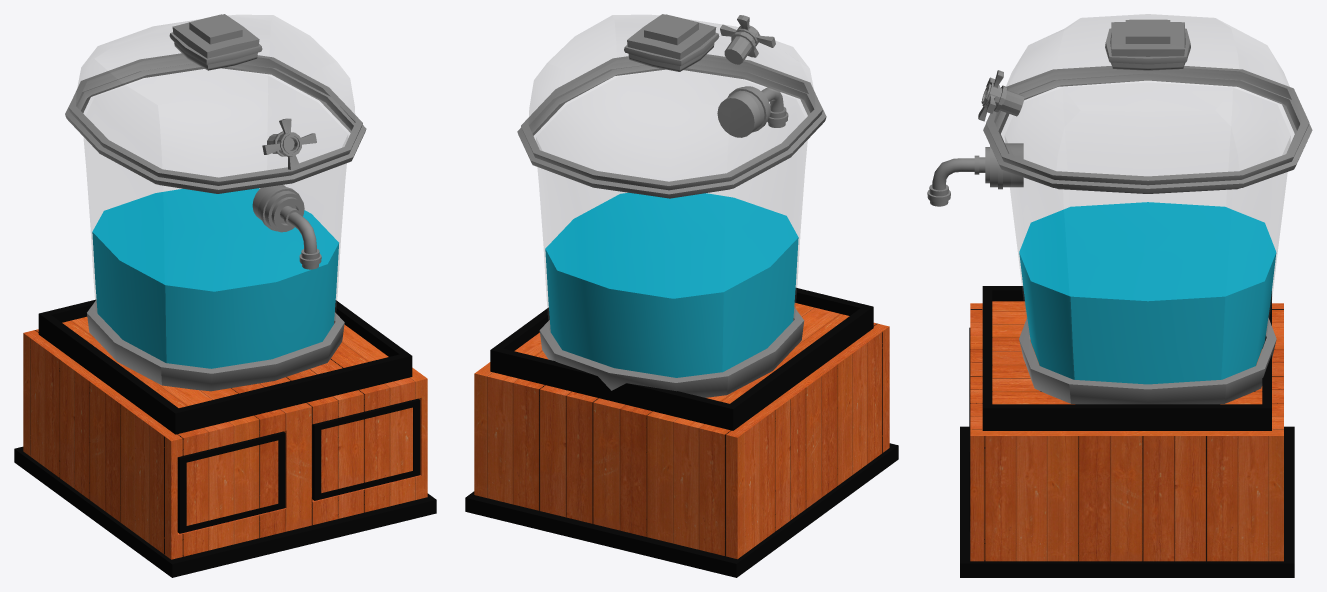
Rendered from FbxDispenser.fbx.
The picture shows the model from 3 angles, left to right: view 1: azimuth 30°, elevation 25°; view 2: azimuth 150°, elevation 25°; view 3: azimuth 270°, elevation 25°; orthographic projection. The views are drawn at different scales.
Visible parts, largest first — view 1: pCube76, pCube61, pCube77, pCylinder7, pCylinder8; view 2: pCube76, pCube61, pCube77, pCylinder7, pCylinder8; view 3: pCube76, pCube61, pCube77, pCylinder7, pCylinder8.
Boxes of the visible parts, bbox=[...] form: pCube76: bbox=[14, 299, 436, 577]; pCube61: bbox=[65, 14, 366, 391]; pCube77: bbox=[92, 188, 338, 368]; pCylinder7: bbox=[252, 185, 321, 269]; pCylinder8: bbox=[262, 118, 316, 169]; pCube76: bbox=[465, 287, 898, 577]; pCube61: bbox=[517, 14, 826, 397]; pCube77: bbox=[545, 192, 798, 377]; pCylinder7: bbox=[717, 86, 788, 137]; pCylinder8: bbox=[720, 15, 775, 64]; pCube76: bbox=[960, 286, 1294, 577]; pCube61: bbox=[983, 14, 1312, 404]; pCube77: bbox=[1019, 202, 1276, 384]; pCylinder7: bbox=[927, 143, 1023, 206]; pCylinder8: bbox=[978, 70, 1024, 121].
Bounding box in the file's own units: 4.38 × 7.19 × 5.21.
5 materials, 1 textured.
